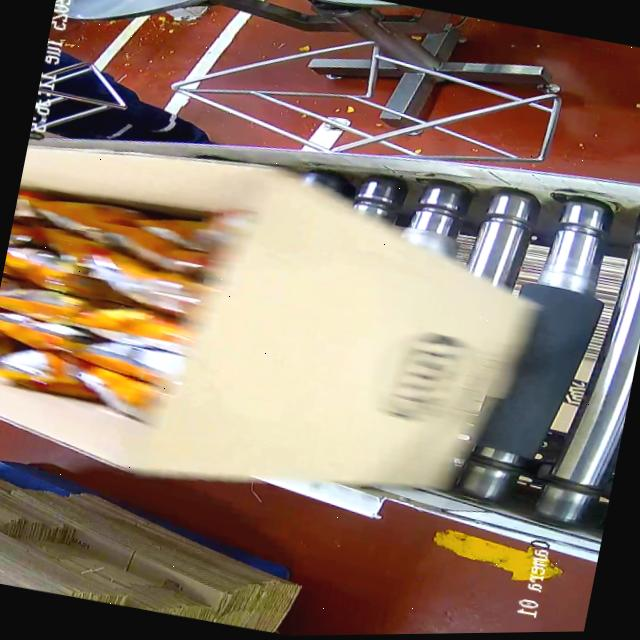FRENCH_CHEESE: (0, 174, 238, 426)
